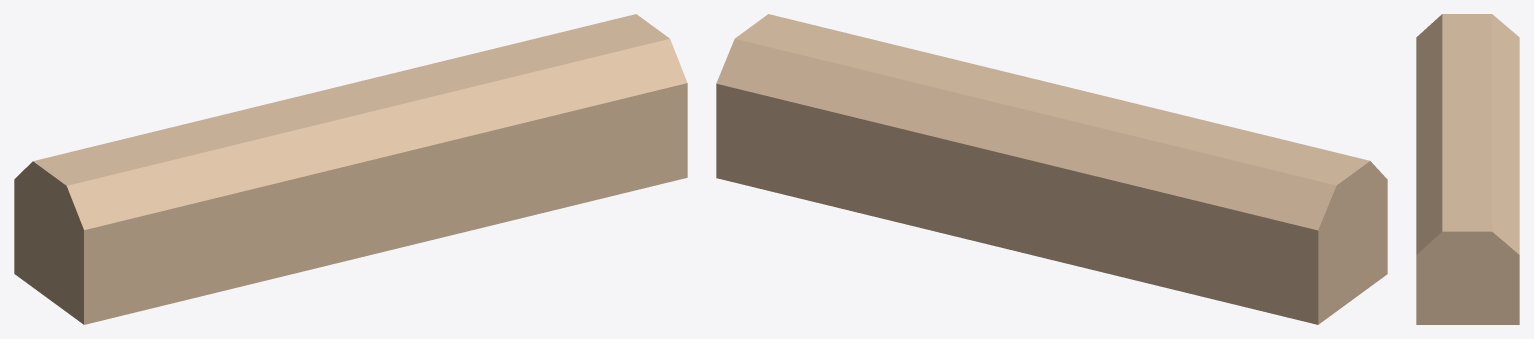
File: Wall_Straight_Coping.fbx
The picture shows the model from 3 angles, left to right: view 1: azimuth 30°, elevation 25°; view 2: azimuth 150°, elevation 25°; view 3: azimuth 270°, elevation 25°; orthographic projection. The views are drawn at different scales.
Parts seen in each view (by area): view 1: object1; view 2: object1; view 3: object1.
Boxes of the visible parts, x1,y1,x2,y2 form: object1: (14,14,687,324); object1: (716,14,1387,324); object1: (1416,14,1519,324).
Size of the model in its own units: 1 by 0.2 by 0.2.
